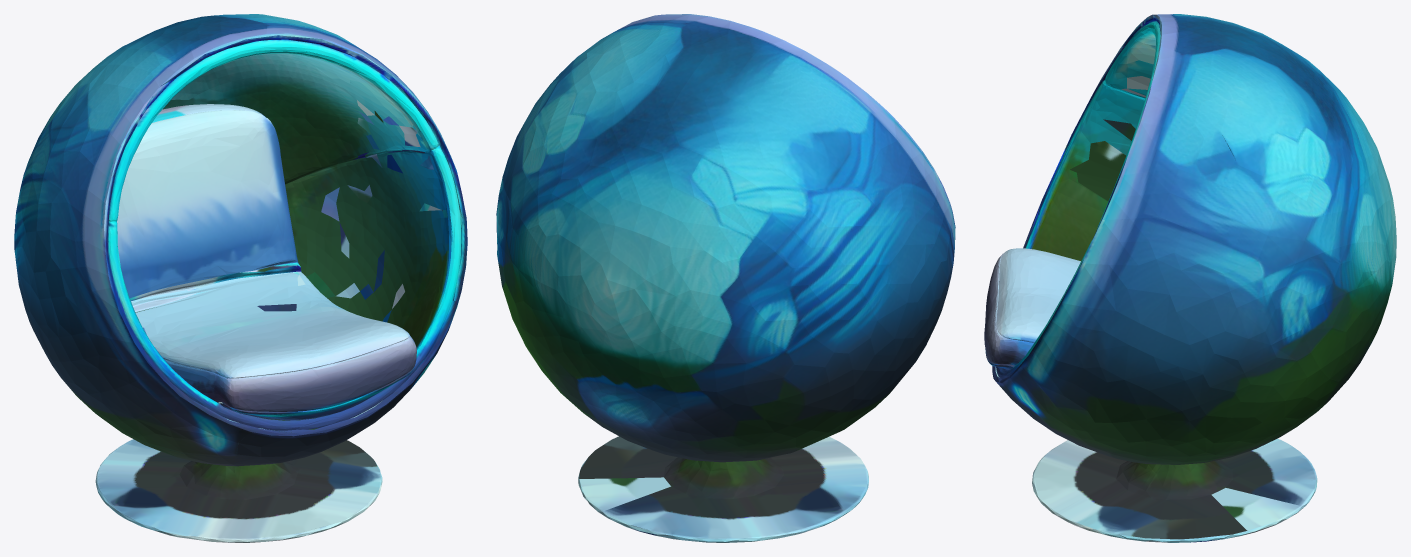
Rendered from edited_mesh.glb.
The picture shows the model from 3 angles, left to right: view 1: azimuth 30°, elevation 25°; view 2: azimuth 150°, elevation 25°; view 3: azimuth 270°, elevation 25°; orthographic projection.
Parts seen in each view (by area): view 1: solid_001_wire; view 2: solid_001_wire; view 3: solid_001_wire.
Boxes of the visible parts, <box> form: solid_001_wire: <box>14,14,467,542</box>; solid_001_wire: <box>496,14,955,542</box>; solid_001_wire: <box>984,14,1396,542</box>.
Bounding box in the file's own units: 1.25 × 1.37 × 1.15.
Materials: 1 (1 with a texture image).
